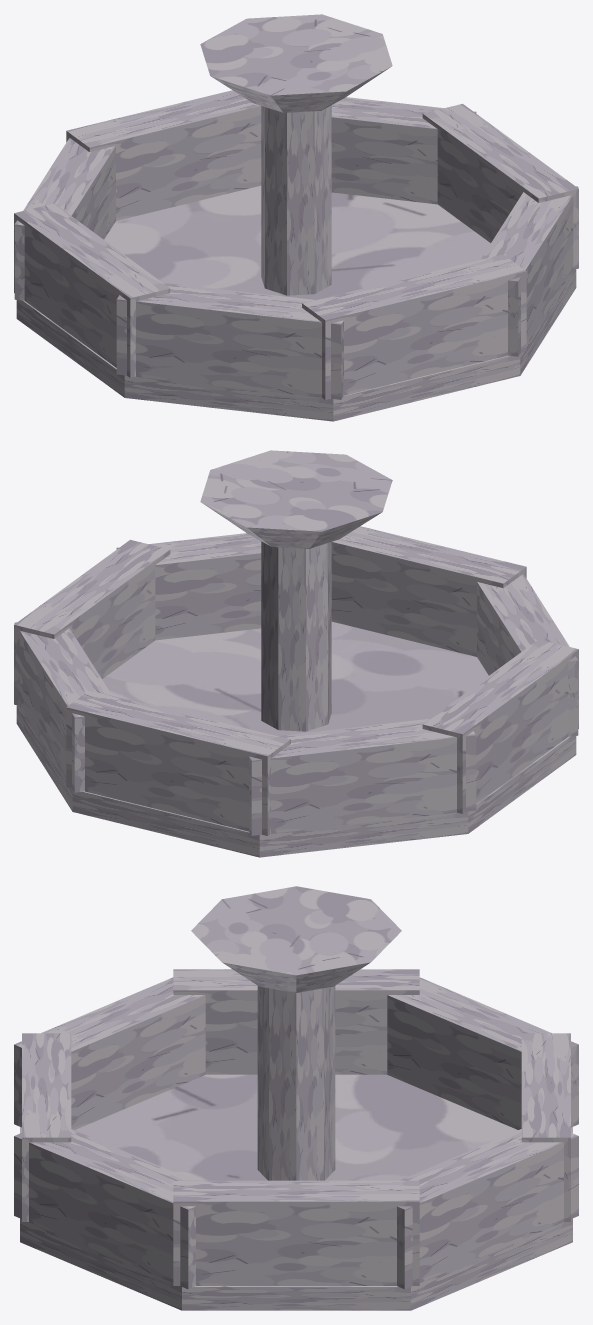
The model's file is fountain.glb.
The picture shows the model from 3 angles, top to bottom: view 1: azimuth 30°, elevation 25°; view 2: azimuth 150°, elevation 25°; view 3: azimuth 270°, elevation 25°; orthographic projection. The views are drawn at different scales.
Parts seen in each view (by area): view 1: fountain; view 2: fountain; view 3: fountain.
Part boxes in pixels (x1,y1,x2,y2): fountain: (14,14,578,421); fountain: (14,450,578,857); fountain: (14,886,578,1310).
Bounding box in the file's own units: 3.21 × 1.65 × 3.21.
1 material, 1 textured.
